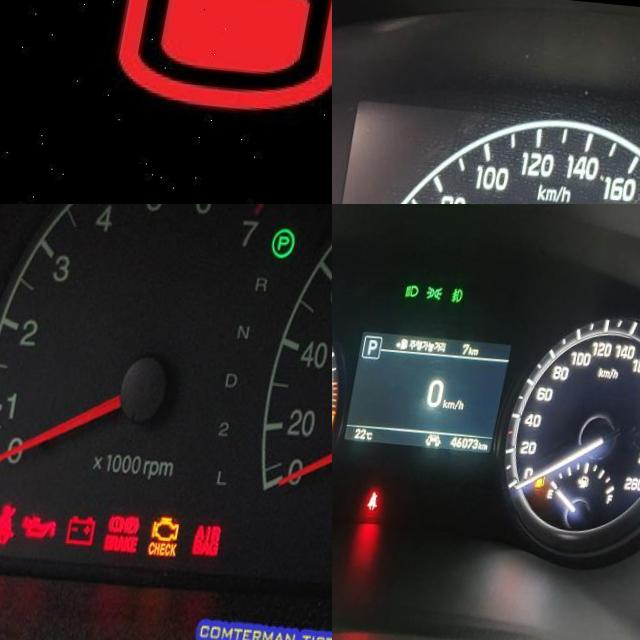FrontFogLight: (459, 278, 472, 295)
Low beam: (412, 275, 428, 292)
SideLamp: (433, 277, 452, 293)
